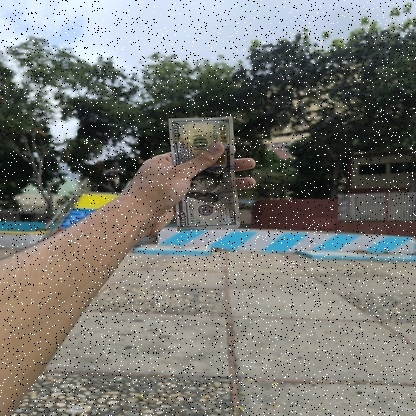one_hundred-front: (166, 115, 241, 233)
